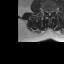CCS_normal: (48, 9, 50, 17)
LFS_stenosis: (52, 8, 54, 13)
LLS_normal: (50, 9, 52, 14)
RFS_stenosis: (44, 8, 46, 14)
RLS_normal: (46, 8, 48, 15)
